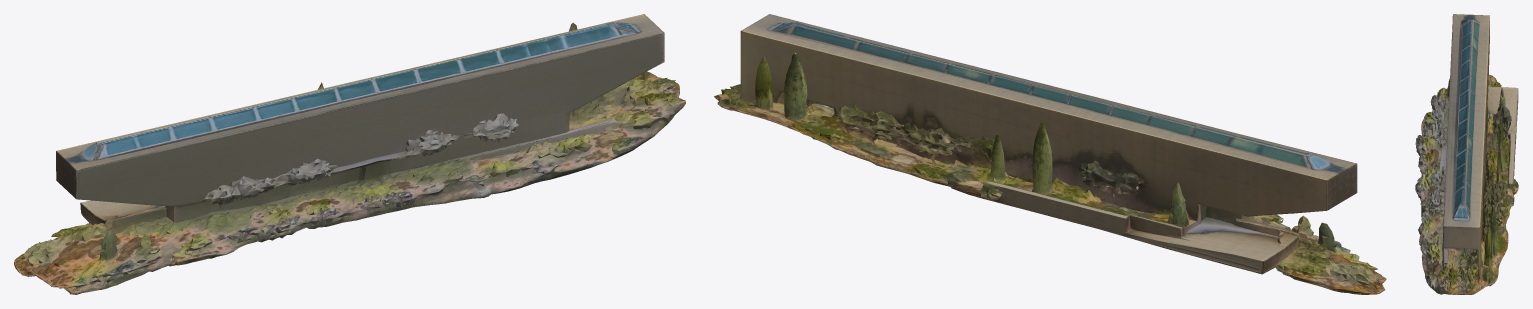
Rendered from v3_yad_vashem_museum.glb.
The picture shows the model from 3 angles, left to right: view 1: azimuth 30°, elevation 25°; view 2: azimuth 150°, elevation 25°; view 3: azimuth 270°, elevation 25°; orthographic projection. The views are drawn at different scales.
Parts seen in each view (by area): view 1: geometry_0; view 2: geometry_0; view 3: geometry_0.
Boxes of the visible parts, box(x1,y1,x2,y2) form: geometry_0: box(14, 14, 685, 294); geometry_0: box(714, 14, 1386, 294); geometry_0: box(1415, 14, 1518, 294).
Bounding box in the file's own units: 109 × 20 × 20.
Materials: 1 (1 with a texture image).
